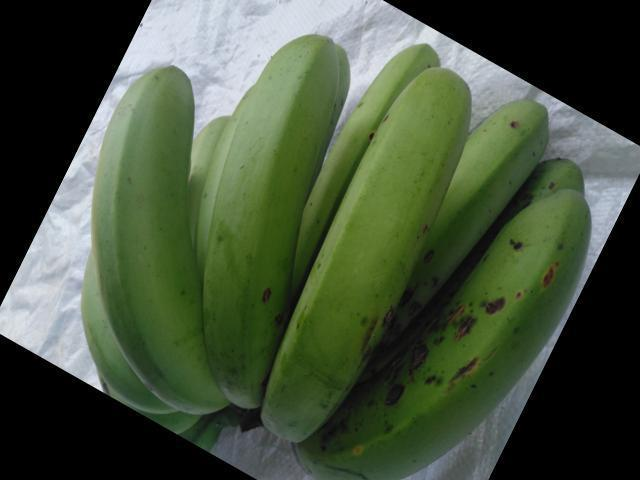unripe: (263, 59, 483, 439), (326, 198, 597, 479), (202, 11, 342, 409), (82, 54, 210, 431)
